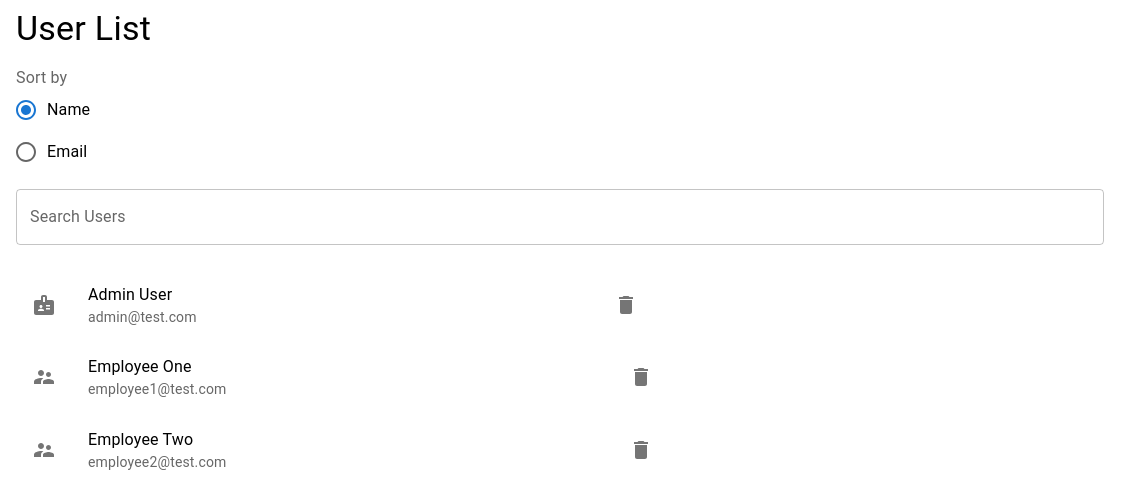
UserEmployeeListLeicht Component › removes a user from the list when delete button is clicked
Click the button named "delete": (626, 306) [614,294,638,318]
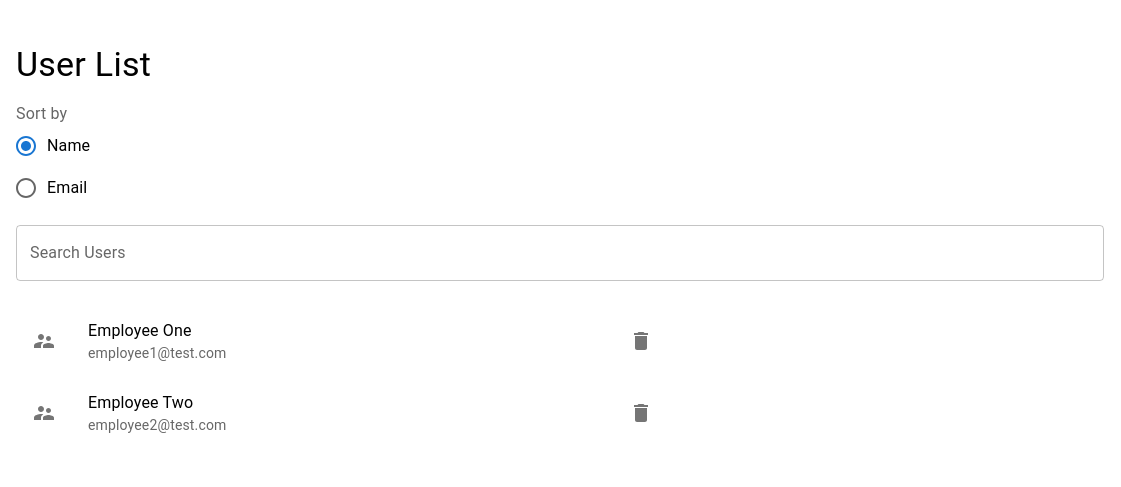
Now the number of list items is 2, box [32,322,653,362]; [32,394,653,434]
